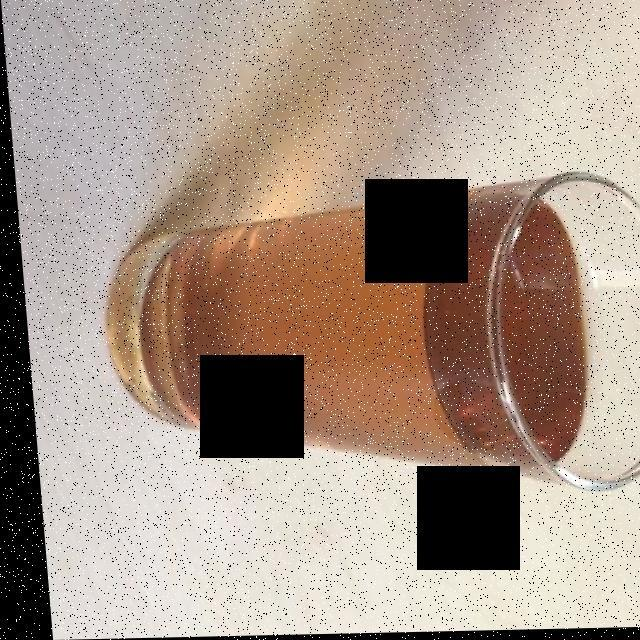drink: (134, 190, 583, 478)
